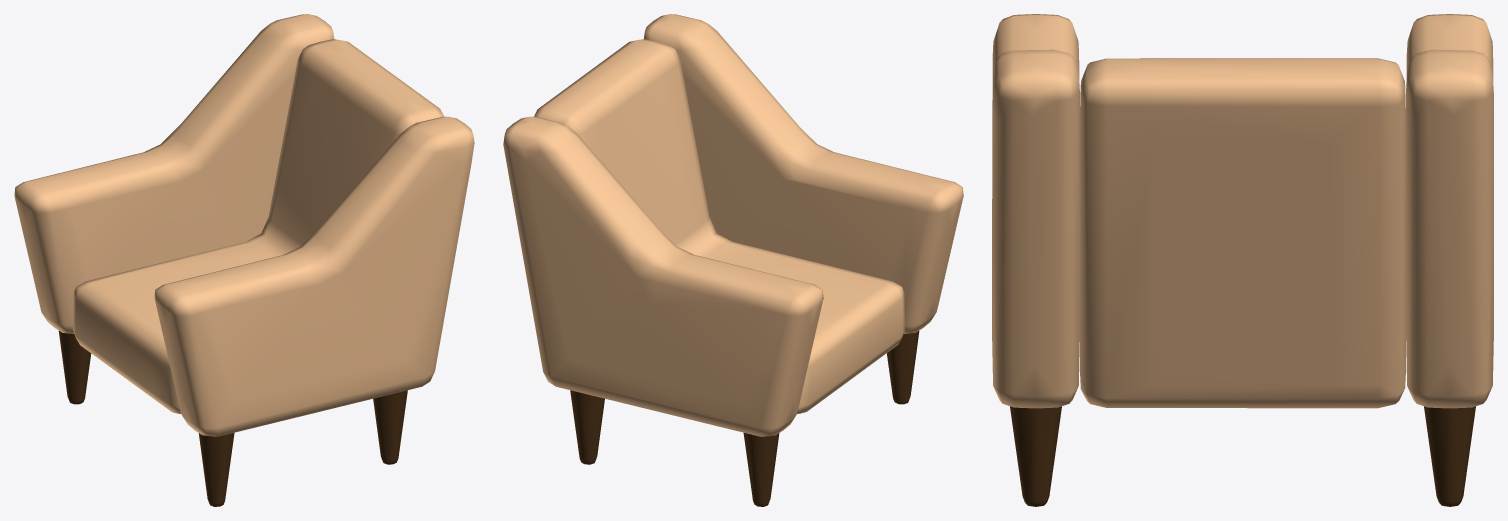
File: armchair_01_bisque.fbx
The picture shows the model from 3 angles, left to right: view 1: azimuth 30°, elevation 25°; view 2: azimuth 150°, elevation 25°; view 3: azimuth 270°, elevation 25°; orthographic projection. The views are drawn at different scales.
Visible parts, largest first — view 1: armchair_01_bisque; view 2: armchair_01_bisque; view 3: armchair_01_bisque.
Part boxes in pixels (x1=…): armchair_01_bisque: x1=14, y1=14, x2=474, y2=506; armchair_01_bisque: x1=503, y1=14, x2=963, y2=506; armchair_01_bisque: x1=992, y1=14, x2=1493, y2=506.
Bounding box in the file's own units: 101 × 104 × 98.01.
Materials: 2 (2 with a texture image).
